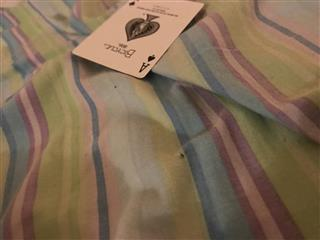AceOfSpades: (71, 1, 204, 79)
